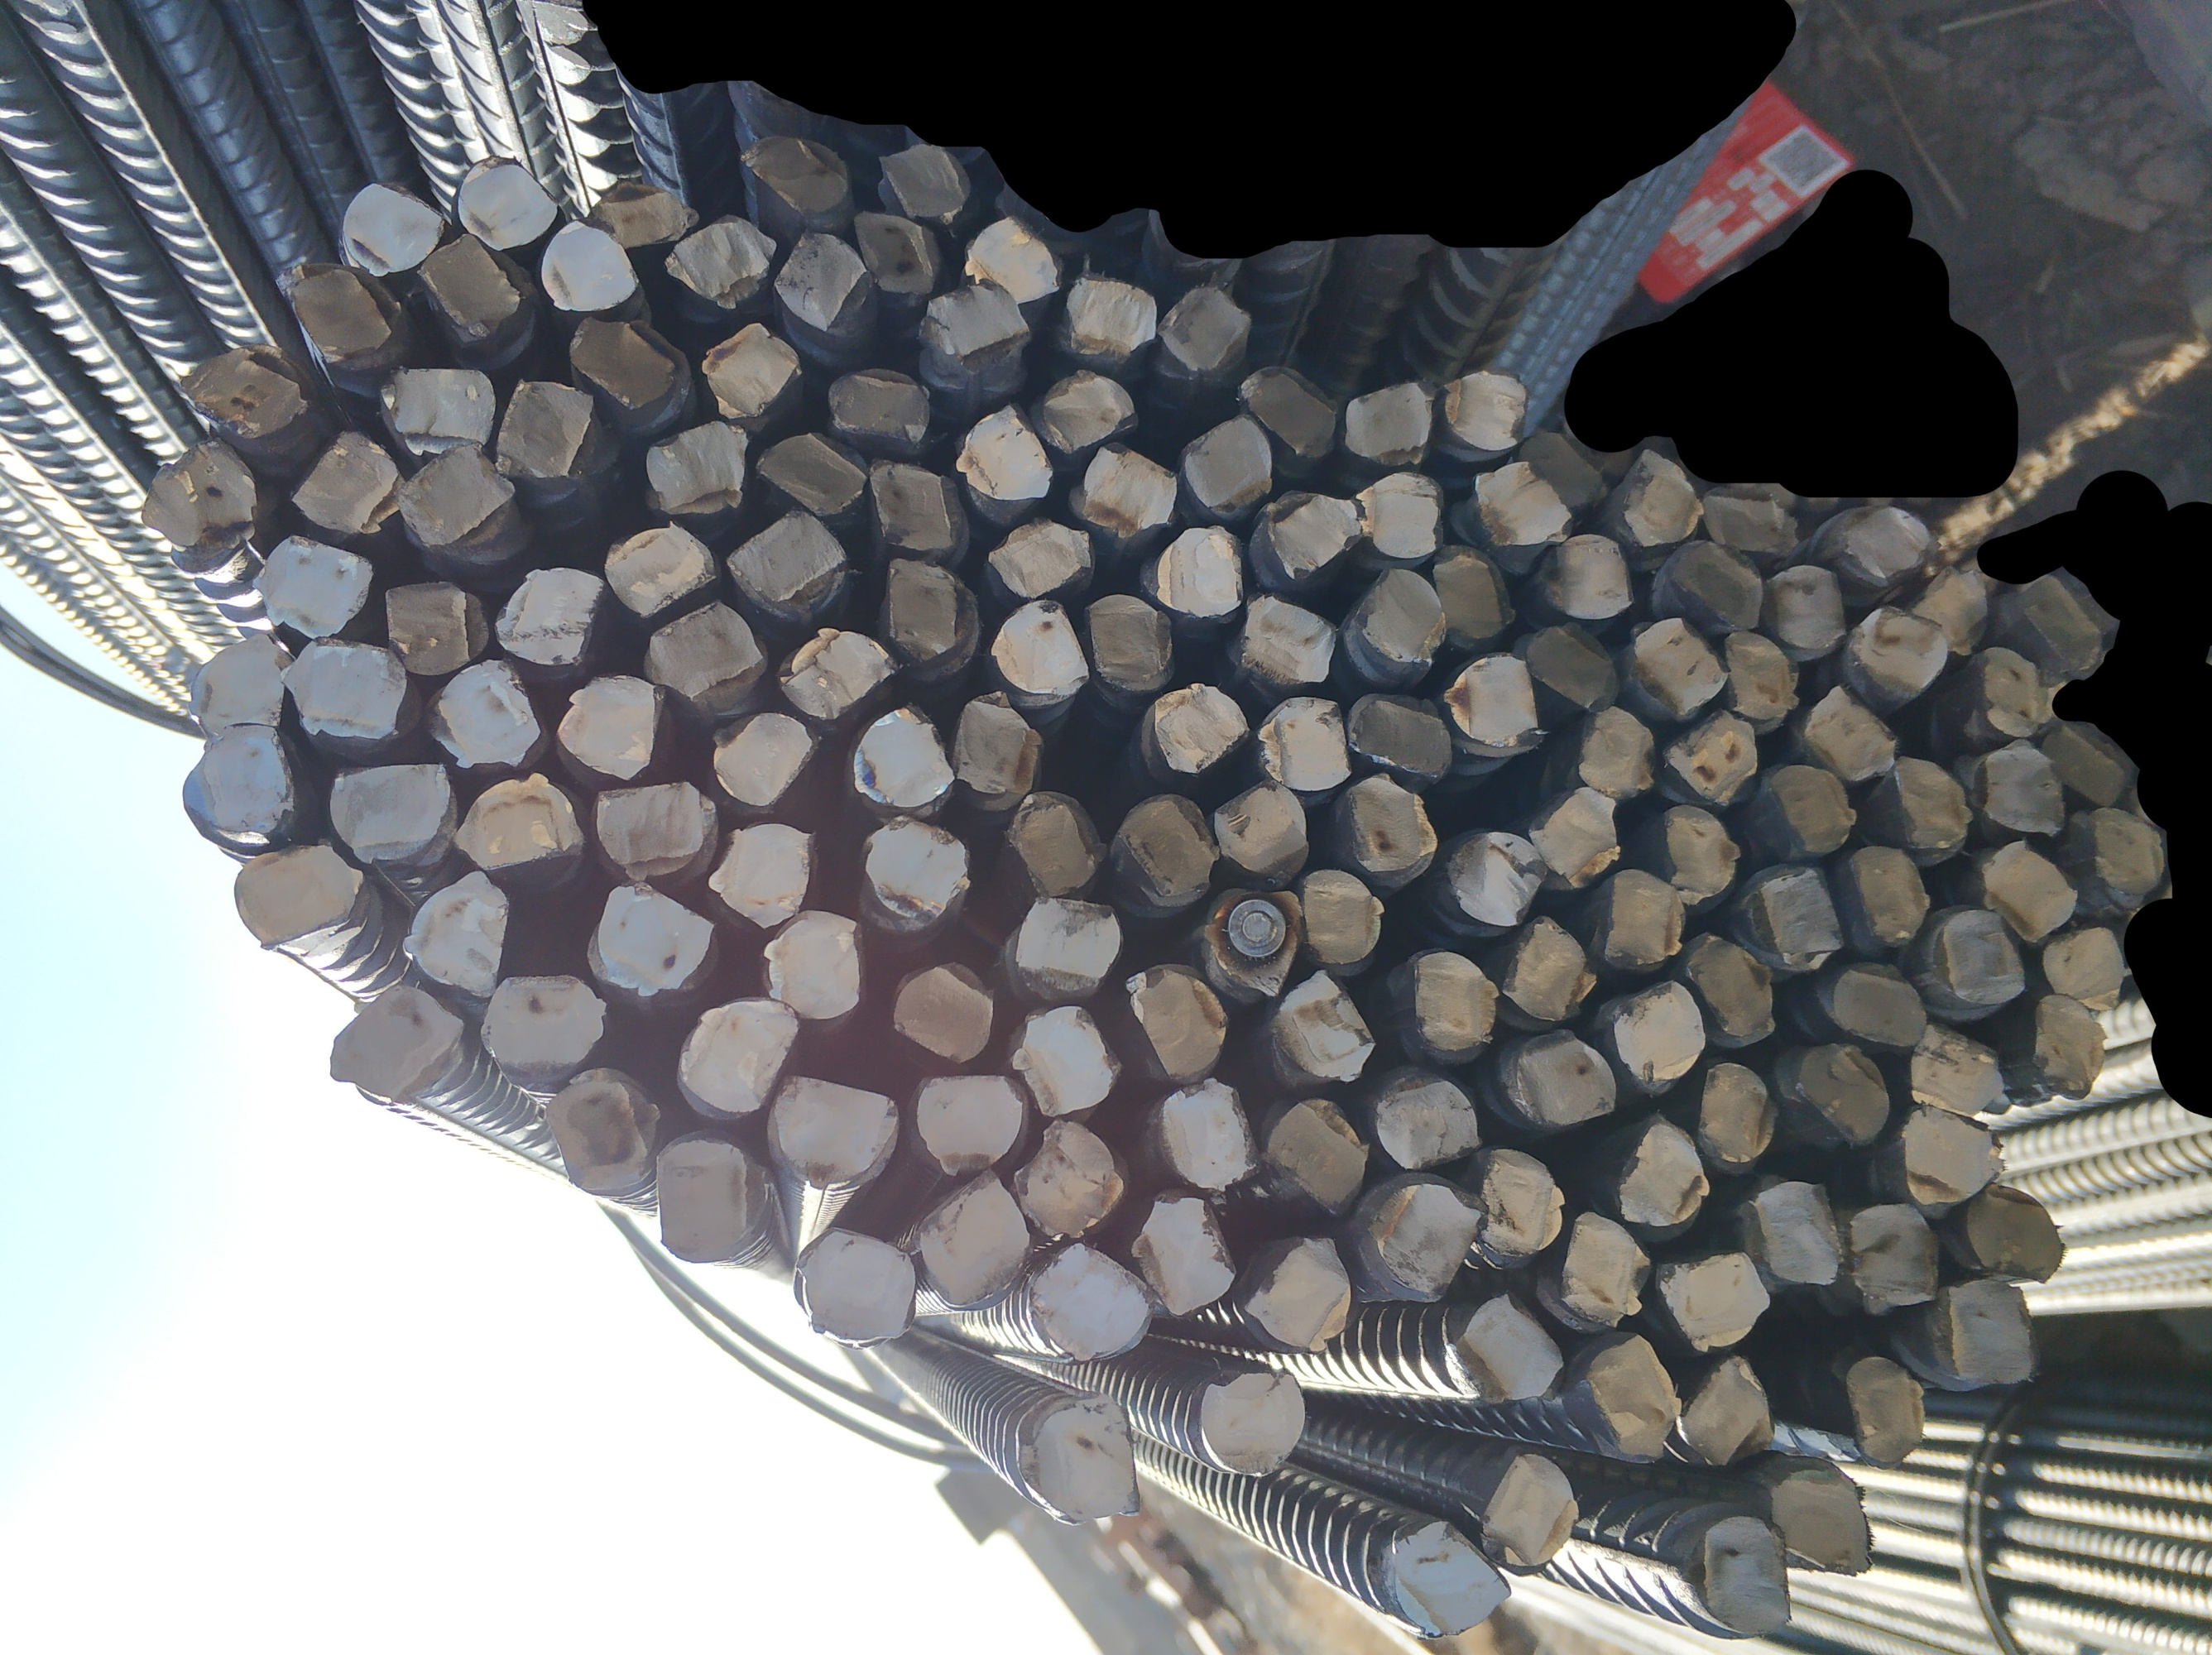rebar: (414, 231, 544, 374), (912, 1165, 1036, 1313), (323, 982, 469, 1104), (792, 1220, 923, 1354), (1018, 1391, 1145, 1526), (652, 1127, 773, 1266), (1027, 1240, 1159, 1366), (766, 1069, 904, 1191), (674, 993, 801, 1120), (584, 880, 718, 1000), (1013, 1111, 1133, 1245), (271, 261, 415, 372), (723, 504, 853, 626), (1114, 958, 1235, 1088), (177, 723, 297, 854), (1003, 1000, 1128, 1123), (542, 1064, 662, 1193), (1388, 1519, 1515, 1639), (1154, 1078, 1270, 1206), (1237, 1233, 1357, 1356), (1590, 975, 1708, 1100), (589, 775, 721, 887), (233, 841, 367, 951), (1366, 1177, 1486, 1299), (450, 770, 587, 876), (1128, 1191, 1239, 1319), (278, 635, 410, 742), (1581, 1328, 1684, 1466), (401, 867, 509, 998), (139, 435, 259, 551), (858, 812, 975, 932), (285, 428, 412, 537), (1475, 1448, 1583, 1577), (1463, 1142, 1567, 1274), (1268, 967, 1380, 1090), (1262, 1093, 1371, 1219), (248, 532, 375, 640), (876, 556, 982, 685), (176, 342, 313, 442), (1451, 1290, 1569, 1405), (426, 655, 544, 770), (1110, 793, 1223, 913), (1668, 928, 1778, 1052), (394, 442, 520, 549), (327, 761, 457, 864), (554, 669, 667, 786), (1364, 1069, 1489, 1173), (1767, 1464, 1878, 1580), (1197, 883, 1308, 1000), (1500, 1024, 1619, 1132), (773, 622, 904, 721), (641, 600, 765, 704), (1011, 894, 1128, 1003), (478, 974, 608, 1071), (707, 821, 820, 932), (1649, 537, 1769, 641), (1654, 1248, 1772, 1353), (1209, 774, 1312, 894), (917, 1073, 1030, 1180), (759, 907, 865, 1022), (662, 210, 780, 313), (1673, 1351, 1776, 1469), (599, 518, 718, 621), (1199, 1366, 1307, 1478), (1232, 588, 1343, 695), (1004, 788, 1110, 901), (1341, 685, 1460, 786), (1964, 1179, 2073, 1286), (1699, 1512, 1795, 1636), (1442, 648, 1548, 760), (493, 565, 606, 669), (184, 631, 299, 734), (379, 363, 499, 461), (850, 702, 957, 810), (1845, 1200, 1943, 1318), (1559, 1208, 1654, 1328), (1652, 704, 1760, 810), (1941, 1276, 2043, 1387), (1348, 562, 1451, 673), (568, 315, 681, 415), (1614, 1118, 1713, 1233), (1423, 537, 1522, 652), (1343, 765, 1440, 881), (888, 963, 996, 1067), (1498, 913, 1600, 1022), (709, 708, 818, 810), (1746, 1177, 1847, 1288), (752, 428, 874, 520), (1977, 838, 2082, 944), (1901, 1104, 2009, 1206), (697, 320, 806, 421), (493, 374, 594, 483), (335, 179, 447, 278), (987, 596, 1091, 701), (1234, 362, 1340, 464), (772, 224, 871, 334), (1590, 866, 1689, 975), (1180, 410, 1277, 522), (947, 688, 1044, 800), (952, 400, 1056, 502), (645, 417, 751, 518), (1844, 602, 1951, 701), (1524, 782, 1623, 890), (1795, 1038, 1891, 1149), (1800, 681, 1903, 784), (1626, 615, 1729, 718), (454, 153, 558, 254), (537, 214, 641, 315), (1444, 829, 1550, 928), (1972, 734, 2070, 841), (382, 579, 490, 676), (1079, 438, 1180, 541), (1255, 694, 1355, 796), (1256, 489, 1362, 586), (1081, 591, 1178, 695), (737, 132, 853, 219), (1755, 864, 1847, 974), (1029, 367, 1140, 457), (983, 513, 1095, 603), (1844, 1353, 1927, 1471), (961, 212, 1063, 308), (1908, 1019, 2005, 1118), (1932, 906, 2030, 1005), (1293, 866, 1388, 967), (1534, 530, 1637, 624), (1411, 944, 1500, 1052), (923, 275, 1034, 360), (1152, 680, 1251, 775), (584, 172, 702, 252), (1470, 459, 1574, 549), (1692, 1059, 1781, 1165), (1847, 843, 1934, 951), (1830, 956, 1929, 1050), (1522, 621, 1623, 713), (1658, 801, 1745, 907), (1767, 761, 1861, 859), (1154, 283, 1255, 374), (865, 455, 957, 553), (1154, 523, 1246, 621), (2030, 991, 2111, 1100), (824, 365, 933, 447), (1619, 447, 1706, 549), (1062, 275, 1161, 363), (1354, 468, 1444, 563), (2019, 572, 2104, 673), (872, 141, 975, 224), (850, 207, 944, 297), (1341, 377, 1435, 468), (2042, 923, 2134, 1014), (1891, 754, 1976, 852), (1576, 704, 1659, 803), (1517, 428, 1611, 515), (2040, 721, 2130, 810), (1699, 478, 1802, 555), (1722, 628, 1802, 723), (1440, 367, 1527, 454), (1765, 562, 1849, 650), (2087, 805, 2167, 897), (1842, 504, 1934, 581), (1976, 643, 2047, 741), (1917, 563, 1990, 657)
